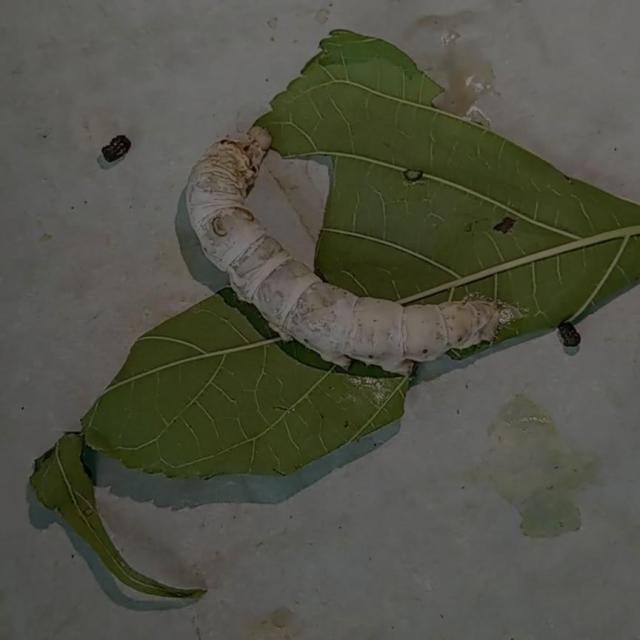Grasserie: (173, 120, 521, 384)
